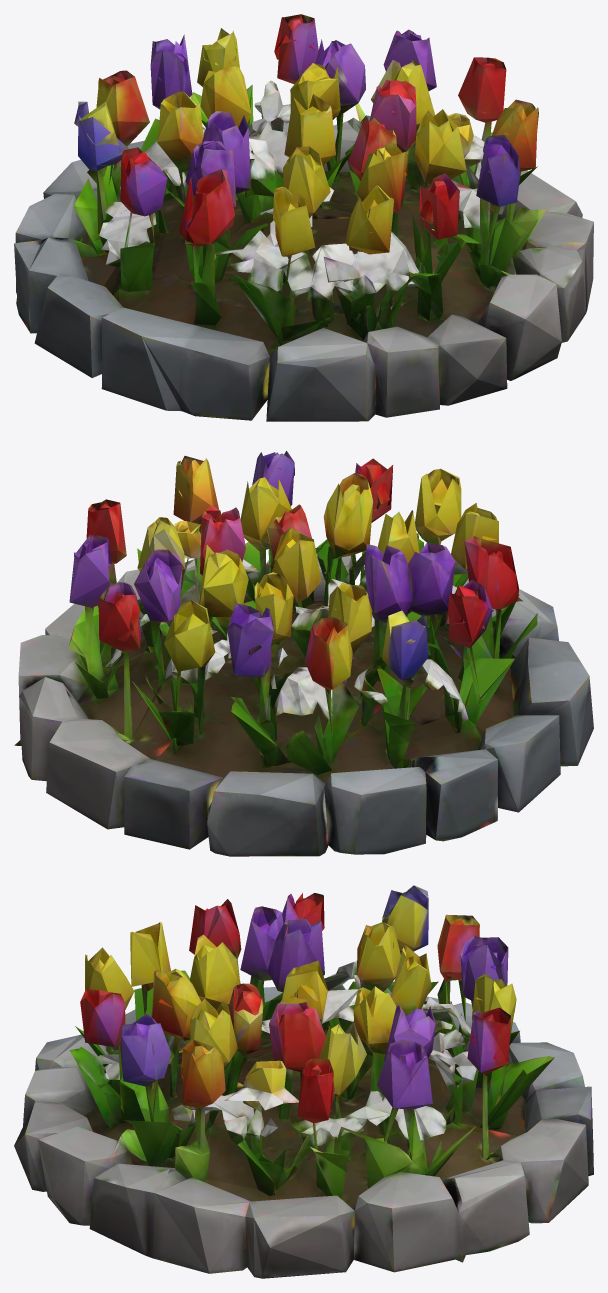
File: flowers.glb
The picture shows the model from 3 angles, top to bottom: view 1: azimuth 30°, elevation 25°; view 2: azimuth 150°, elevation 25°; view 3: azimuth 270°, elevation 25°; orthographic projection. The views are drawn at different scales.
Visible parts, largest first — view 1: geometry_0; view 2: geometry_0; view 3: geometry_0.
Part boxes in pixels (bbox=[...]): geometry_0: bbox=[14, 14, 593, 421]; geometry_0: bbox=[14, 451, 593, 856]; geometry_0: bbox=[14, 885, 593, 1278].
Size of the model in its own units: 0.9282 by 0.3876 by 0.9442.
1 material, 1 textured.
